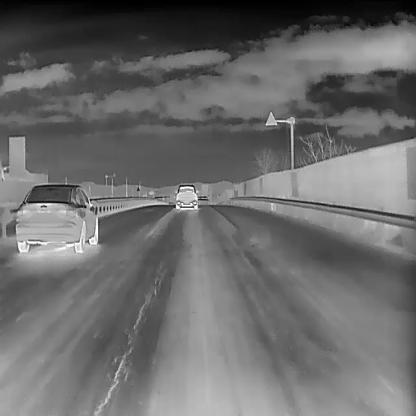car: (16, 182, 99, 252), (173, 182, 199, 210)
